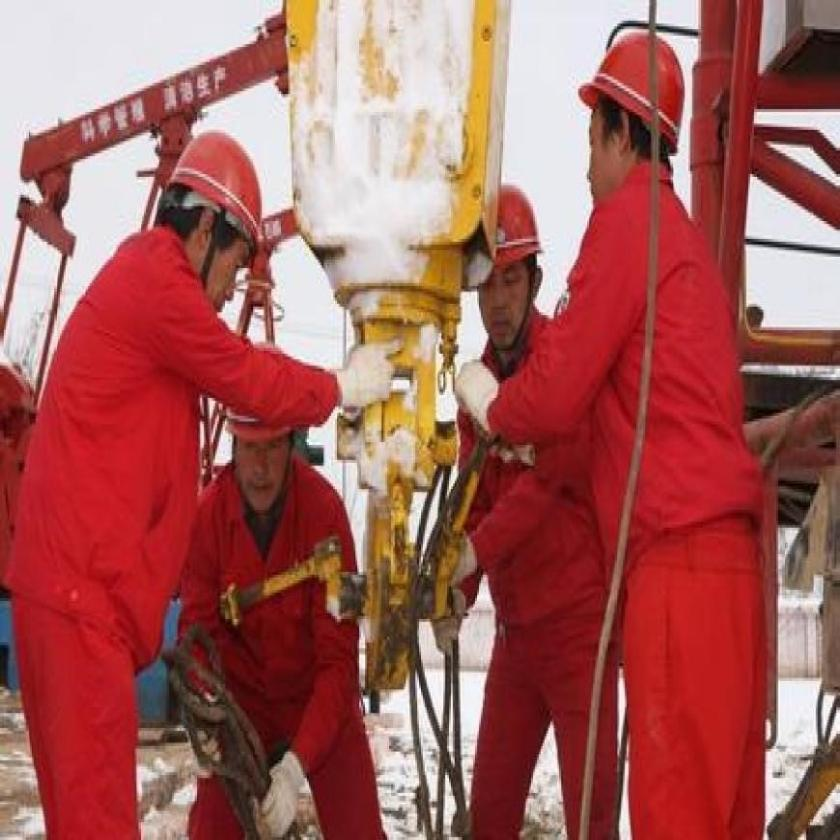Con_casco: (138, 116, 272, 330), (578, 24, 696, 212), (477, 183, 552, 378)
